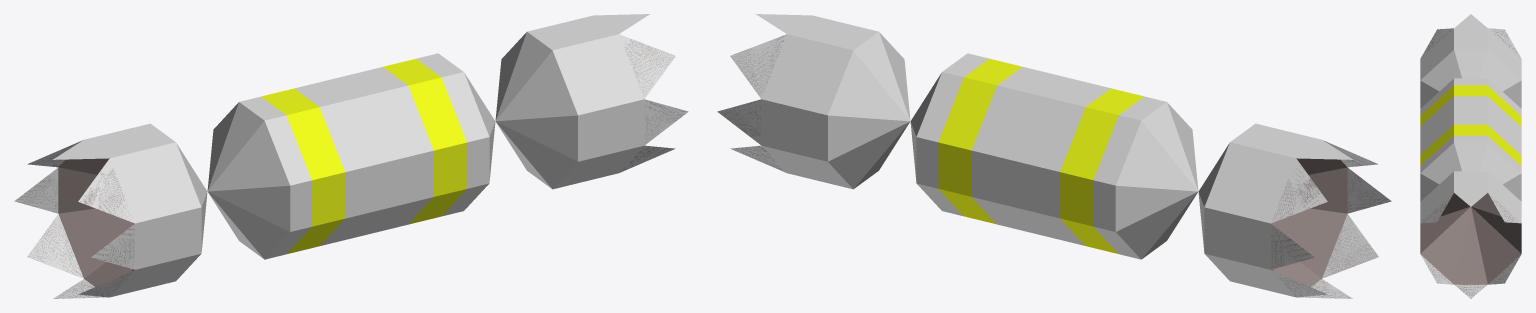
The model's file is inv_christmas_cracker.obj.
The picture shows the model from 3 angles, left to right: view 1: azimuth 30°, elevation 25°; view 2: azimuth 150°, elevation 25°; view 3: azimuth 270°, elevation 25°; orthographic projection. The views are drawn at different scales.
Size of the model in its own units: 0.4219 by 0.0938 by 0.0938.
